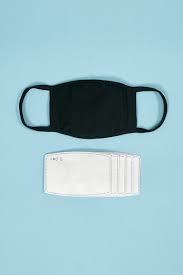cloth_mask: (17, 78, 168, 142)
